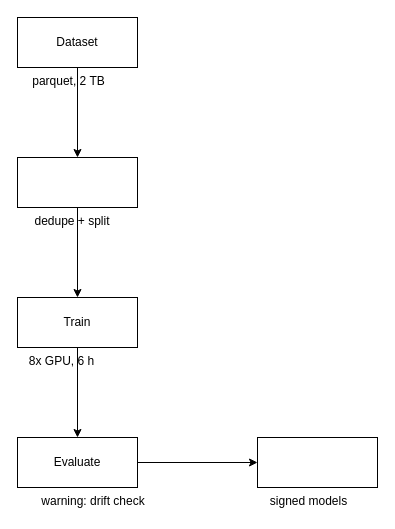
The diagram is 395 pixels wide and 529 high, and some of its shapes have lost their labels. The shapes that lost their labels are listed below. From the top down, each one's centre as x and y in pixels, then its label:
the point at 77,182: Preprocess
the point at 317,462: Registry
